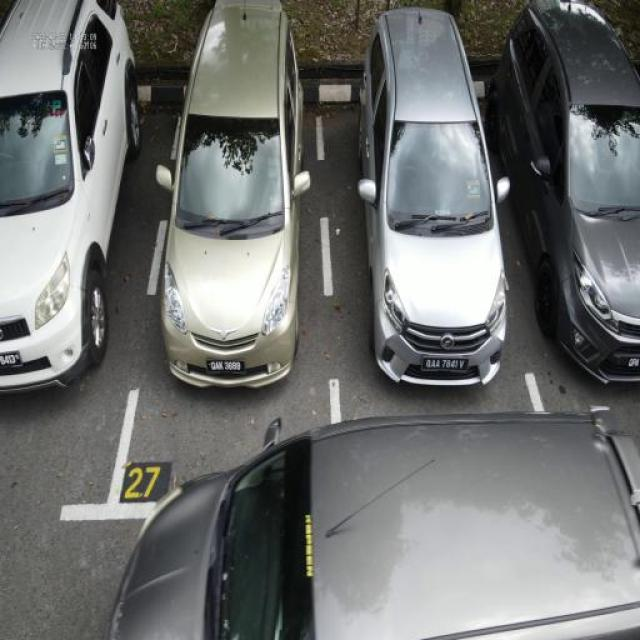Legalparking: (0, 5, 640, 466)
illegalparking: (2, 358, 640, 632)
